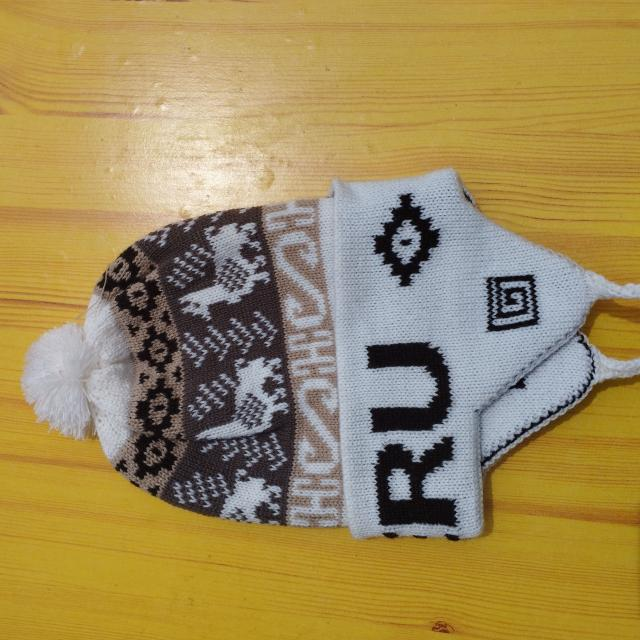Gorro: (21, 166, 638, 541)
